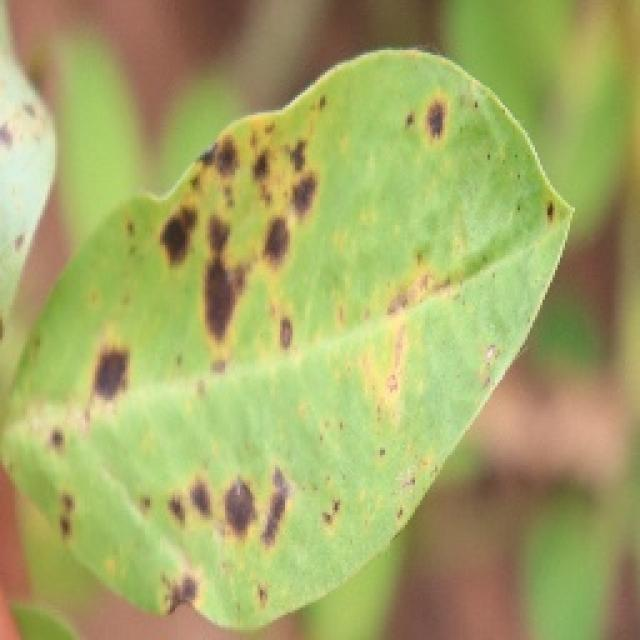Yellowish: (0, 50, 568, 630)
